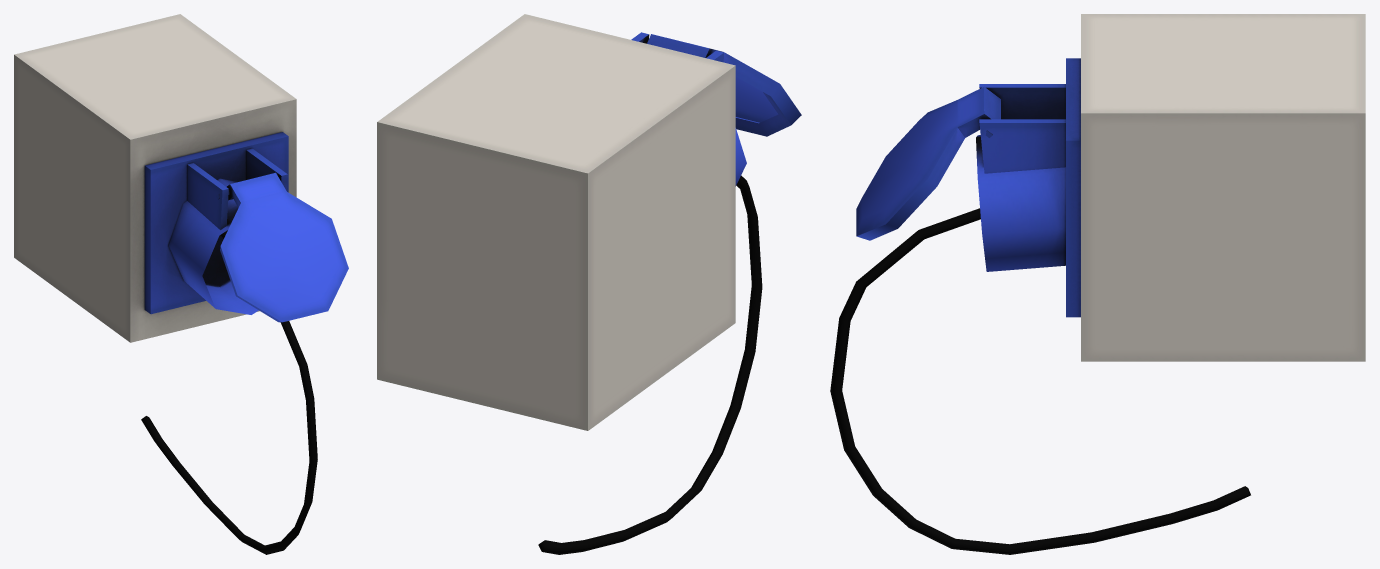
Rendered from TomacorrientePiso.FBX.
The picture shows the model from 3 angles, left to right: view 1: azimuth 30°, elevation 25°; view 2: azimuth 150°, elevation 25°; view 3: azimuth 270°, elevation 25°; orthographic projection. The views are drawn at different scales.
Visible parts, largest first — view 1: Tomacorriente; view 2: Tomacorriente; view 3: Tomacorriente.
Part boxes in pixels (<box>): Tomacorriente: <box>14,14,348,554</box>; Tomacorriente: <box>377,14,801,554</box>; Tomacorriente: <box>830,14,1365,554</box>.
Bounding box in the file's own units: 0.0792 × 0.1828 × 0.1805.
2 materials, 1 textured.
